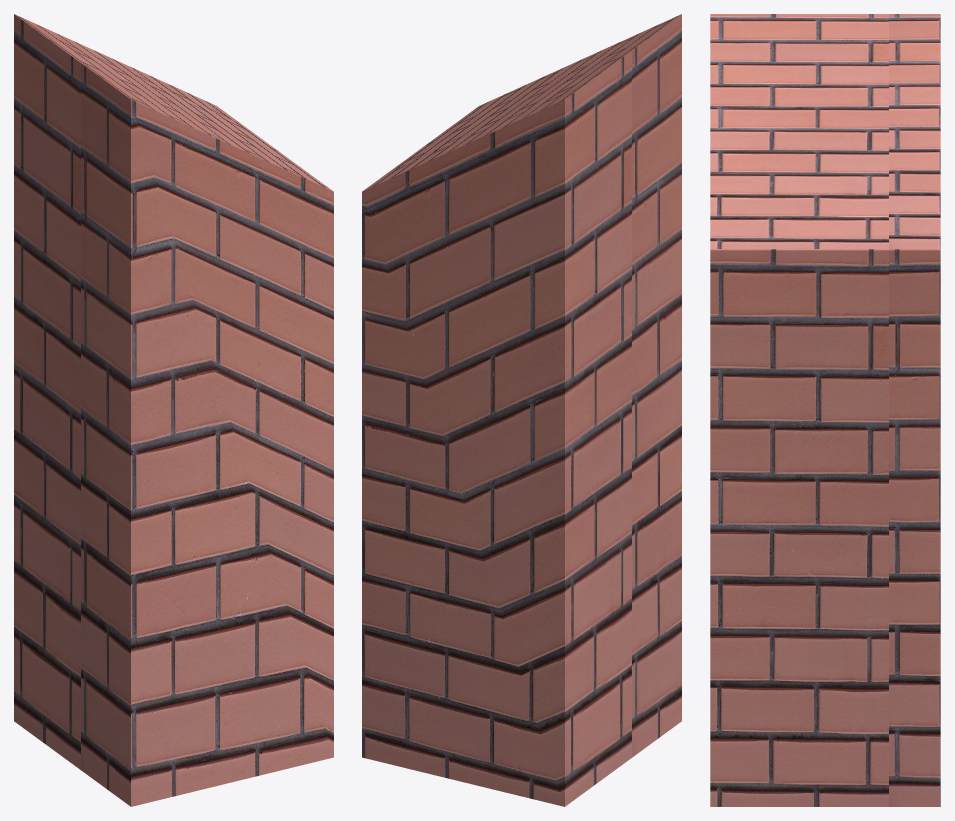
File: hypotenuse.fbx
3 views of the same model, side by side, from view 1: azimuth 30°, elevation 25°; view 2: azimuth 150°, elevation 25°; view 3: azimuth 270°, elevation 25° (orthographic).
Visible parts, largest first — view 1: Cube; view 2: Cube; view 3: Cube.
Boxes of the visible parts, <box> form: Cube: <box>14,14,333,806</box>; Cube: <box>362,14,681,806</box>; Cube: <box>710,14,940,806</box>.
Size of the model in its own units: 300 by 1000 by 300.
1 material, 1 textured.
